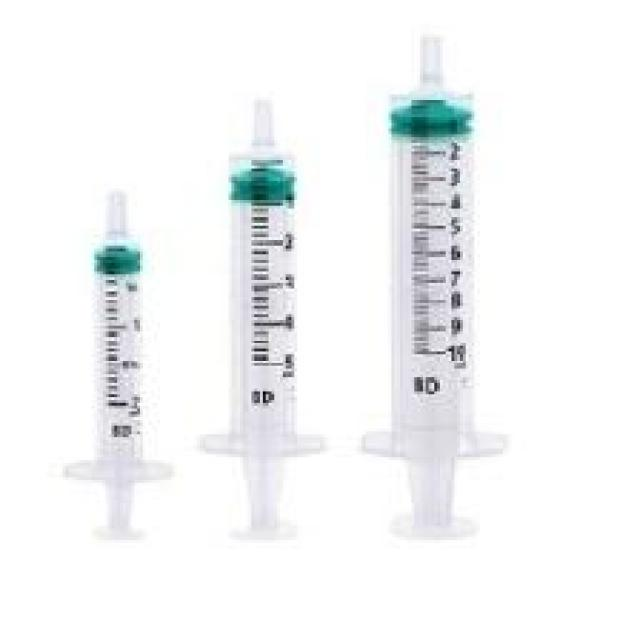syringe: (351, 5, 515, 545), (212, 91, 329, 554), (72, 184, 173, 541)
